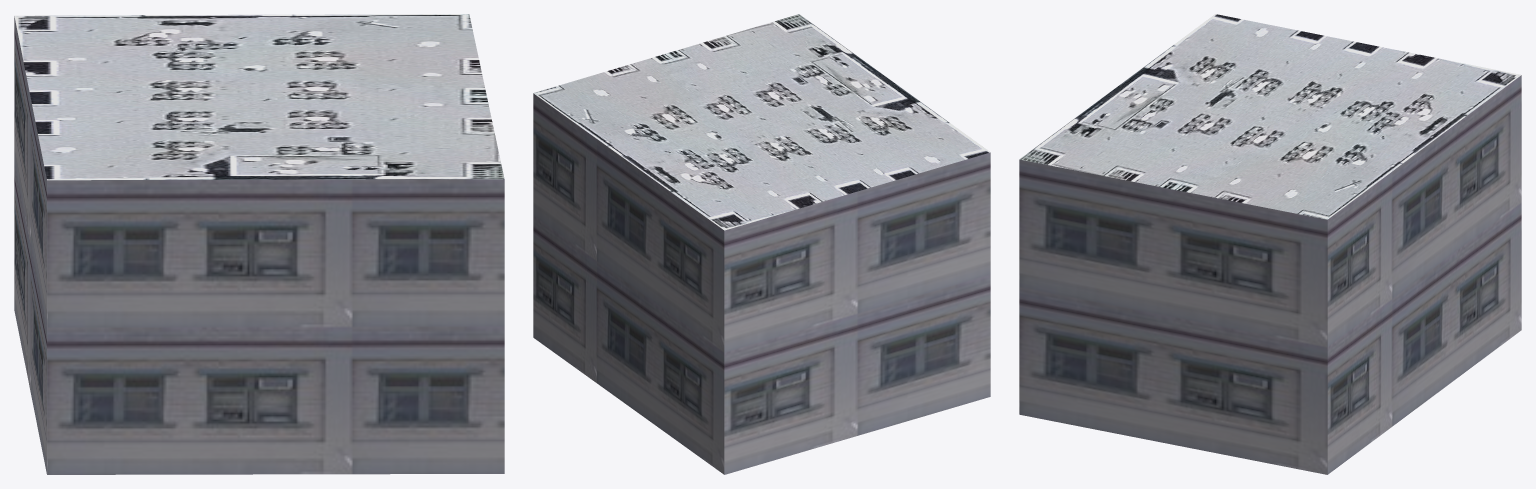
Rendered from ResTex__784.fbx.
3 renders of one model, left to right at view 1: azimuth 30°, elevation 25°; view 2: azimuth 150°, elevation 25°; view 3: azimuth 270°, elevation 25°, orthographic. The views are drawn at different scales.
Parts seen in each view (by area): view 1: CityEngineMaterial_1_m, CityEngineMaterial_8_m; view 2: CityEngineMaterial_1_m, CityEngineMaterial_8_m; view 3: CityEngineMaterial_1_m, CityEngineMaterial_8_m.
Part boxes in pixels (x1,y1,x2,y2): CityEngineMaterial_1_m: (14, 16, 504, 474); CityEngineMaterial_8_m: (14, 14, 504, 180); CityEngineMaterial_1_m: (533, 93, 990, 474); CityEngineMaterial_8_m: (533, 14, 990, 230); CityEngineMaterial_1_m: (1019, 75, 1521, 474); CityEngineMaterial_8_m: (1019, 14, 1520, 219).
Size of the model in its own units: 10.38 by 6 by 10.71.
Materials: 2 (2 with a texture image).
